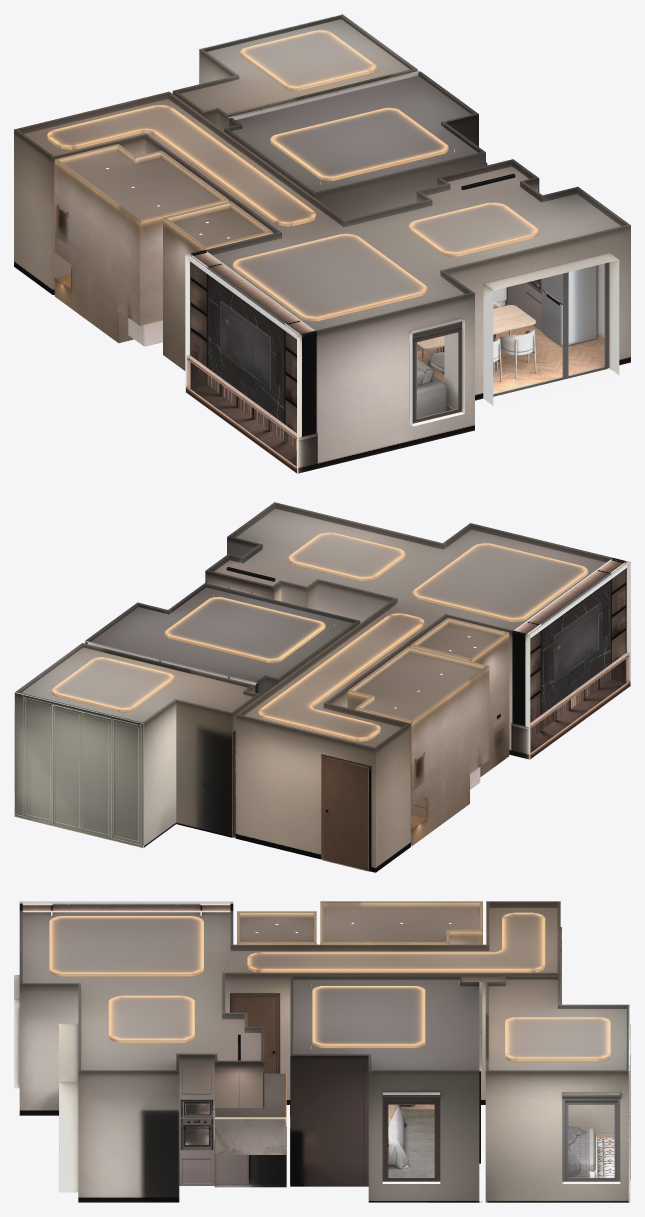
Rendered from apartamento.glb.
3 views of the same model, one above another, from view 1: azimuth 30°, elevation 25°; view 2: azimuth 150°, elevation 25°; view 3: azimuth 270°, elevation 25° (orthographic). The views are drawn at different scales.
Visible parts, largest first — view 1: Teto, Sala_Cozinha, Banheiros_Corredor, Quartos; view 2: Teto, Banheiros_Corredor, Quartos, Sala_Cozinha; view 3: Teto, Quartos, Sala_Cozinha, Banheiros_Corredor, Chambre01_Meuble_Lit.
Part boxes in pixels (box(x1,y1,x2,y2)): Teto: box(14, 14, 630, 339); Sala_Cozinha: box(185, 178, 630, 473); Banheiros_Corredor: box(14, 130, 277, 370); Quartos: box(172, 14, 487, 219); Teto: box(15, 502, 630, 748); Banheiros_Corredor: box(235, 616, 509, 872); Quartos: box(14, 595, 360, 847); Sala_Cozinha: box(205, 537, 630, 759); Teto: box(19, 901, 629, 1071); Quartos: box(290, 984, 630, 1202); Sala_Cozinha: box(14, 903, 286, 1202); Banheiros_Corredor: box(225, 927, 561, 1104); Chambre01_Meuble_Lit: box(388, 1104, 595, 1177).
Size of the model in its own units: 7.05 by 2.51 by 10.66.
Materials: 5 (5 with a texture image).
